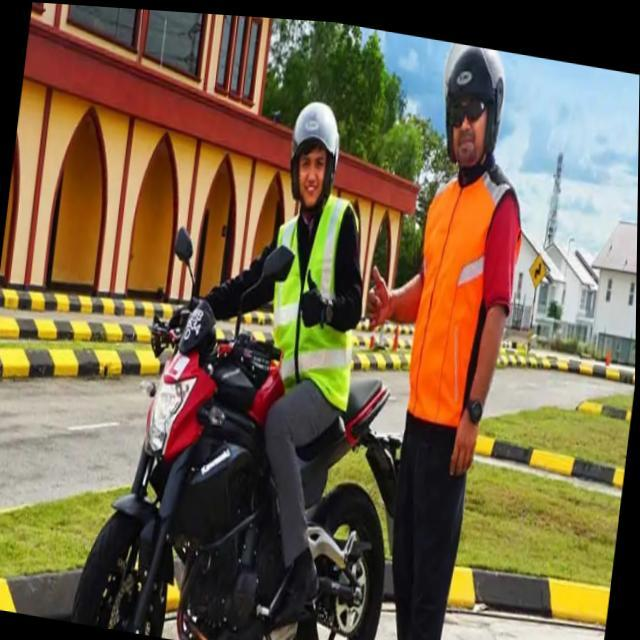Helmet: (433, 43, 509, 167), (282, 96, 339, 209)
